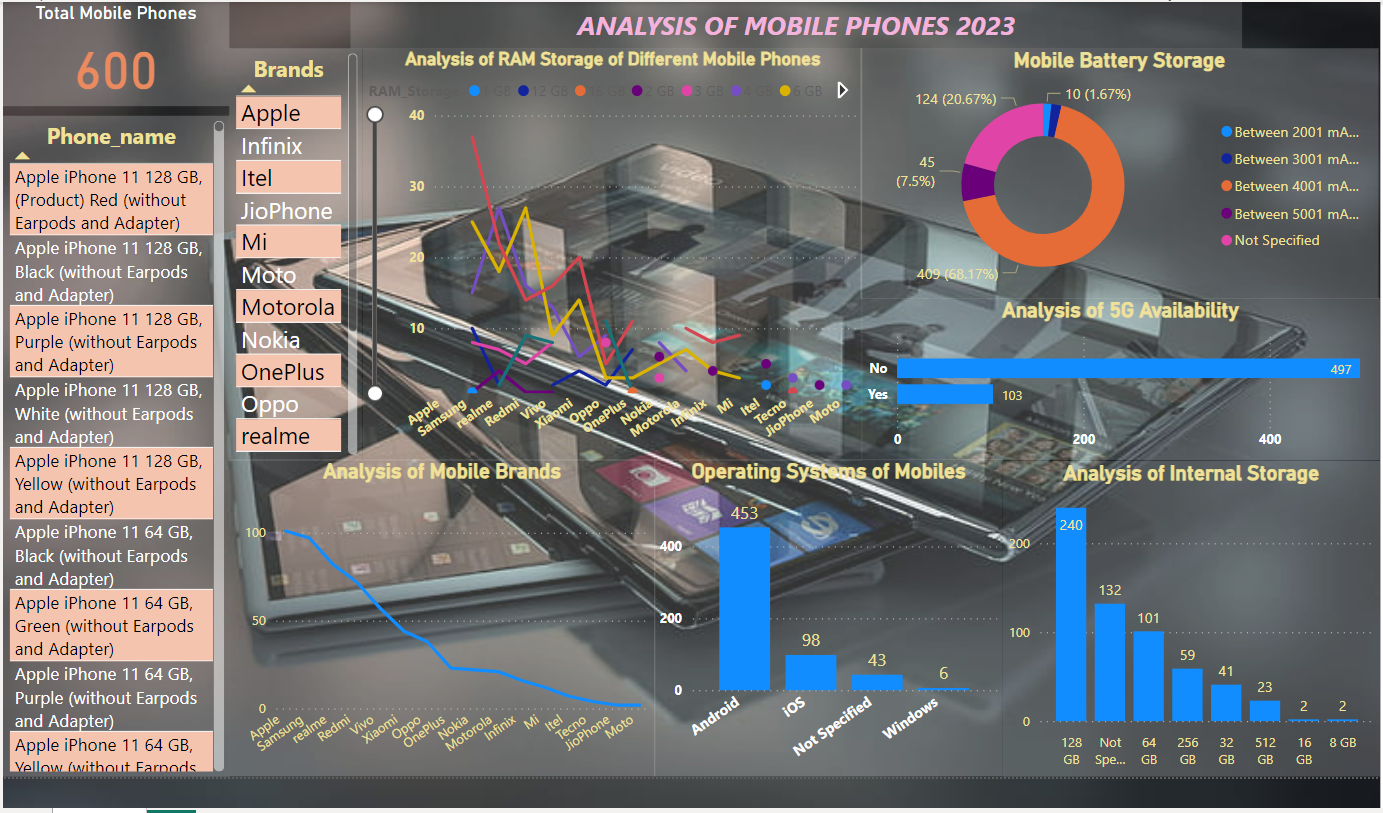

This screenshot's page, from the dashboard's own definition file:
{"tool":"powerbi","page":{"name":"Page 1","canvas":[1280,720],"ordinal":0},"visuals":[{"type":"card","title":"Total Mobile Phones","fields":{"Values":["Sum(Worksheet.Total_Mobile)"]},"box":[0,0,210.1,96.6],"z":0},{"type":"tableEx","fields":{"Values":["Worksheet.Phone_name"]},"box":[0,105.7,210.3,614.7],"z":1000},{"type":"tableEx","fields":{"Values":["Worksheet.Brands"]},"box":[210,42.9,124.3,382.9],"z":2000},{"type":"clusteredColumnChart","title":"Operating Systems of Mobiles","fields":{"Category":["Worksheet.Operating_System_Type"],"Y":["Sum(Worksheet.Total_Mobile)"]},"box":[605.7,425.7,324.3,294.3],"z":3000},{"type":"donutChart","title":"Mobile Battery Storage","fields":{"Y":["Sum(Worksheet.Total_Mobile)"],"Series":["Worksheet.Battery_Capacity_Range"]},"box":[797.1,42.9,481.4,232.9],"z":4000},{"type":"barChart","title":"Analysis of 5G Availability","fields":{"Category":["Worksheet.5G_Availability"],"Y":["Sum(Worksheet.Total_Mobile)"]},"box":[798.6,275.7,481.4,150],"z":5000},{"type":"lineChart","title":"Analysis of Mobile Brands","fields":{"Category":["Worksheet.Brands"],"Y":["Sum(Worksheet.Total_Mobile)"]},"box":[210,425.7,395.7,294.3],"z":6000},{"type":"columnChart","title":"Analysis of Internal Storage","fields":{"Category":["Worksheet.Internal_Storage"],"Y":["Sum(Worksheet.Total_Mobile)"]},"box":[930,426.7,350,293.3],"z":7000},{"type":"textbox","box":[322.9,0,828.6,42.9],"z":8000},{"type":"lineChart","title":"Analysis of RAM Storage of Different Mobile Phones","fields":{"Category":["Worksheet.Brands"],"Y":["Sum(Worksheet.Total_Mobile)"],"Series":["Worksheet.RAM_Storage"]},"box":[334.3,42.9,464.3,382.9],"z":9000}]}

Visuals, with their boxes on the page's 1280x720 design canvas (x1, y1, x2, y2). These are canvas units, not pixel positions in the 1383x813 screenshot, which may show the page scaled, cropped or inside an application window:
"Total Mobile Phones" card: x1=0, y1=0, x2=210, y2=97
tableEx - Worksheet.Phone_name: x1=0, y1=106, x2=210, y2=720
tableEx - Worksheet.Brands: x1=210, y1=43, x2=334, y2=426
"Operating Systems of Mobiles" clusteredColumnChart: x1=606, y1=426, x2=930, y2=720
"Mobile Battery Storage" donutChart: x1=797, y1=43, x2=1278, y2=276
"Analysis of 5G Availability" barChart: x1=799, y1=276, x2=1280, y2=426
"Analysis of Mobile Brands" lineChart: x1=210, y1=426, x2=606, y2=720
"Analysis of Internal Storage" columnChart: x1=930, y1=427, x2=1280, y2=720
textbox: x1=323, y1=0, x2=1152, y2=43
"Analysis of RAM Storage of Different Mobile Phones" lineChart: x1=334, y1=43, x2=799, y2=426
